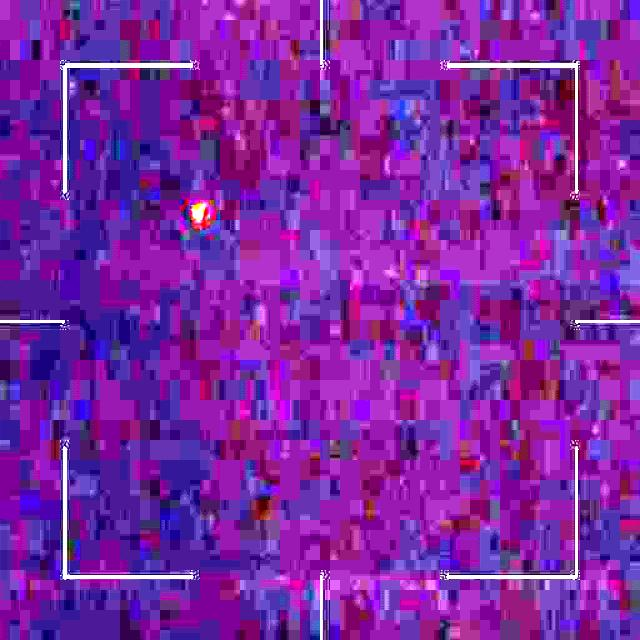bird: (188, 199, 209, 226)
